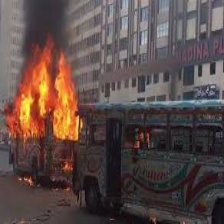fire: (4, 38, 83, 142)
smoke: (9, 1, 84, 34)
